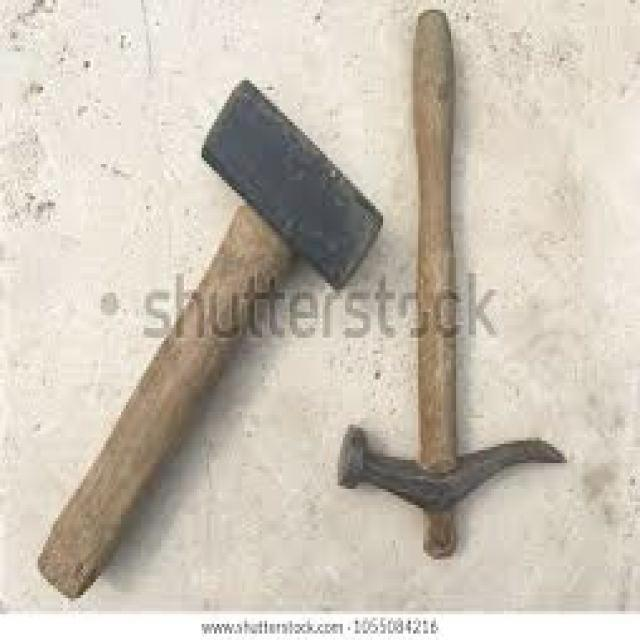hammer: (27, 77, 390, 611), (332, 6, 578, 572)
